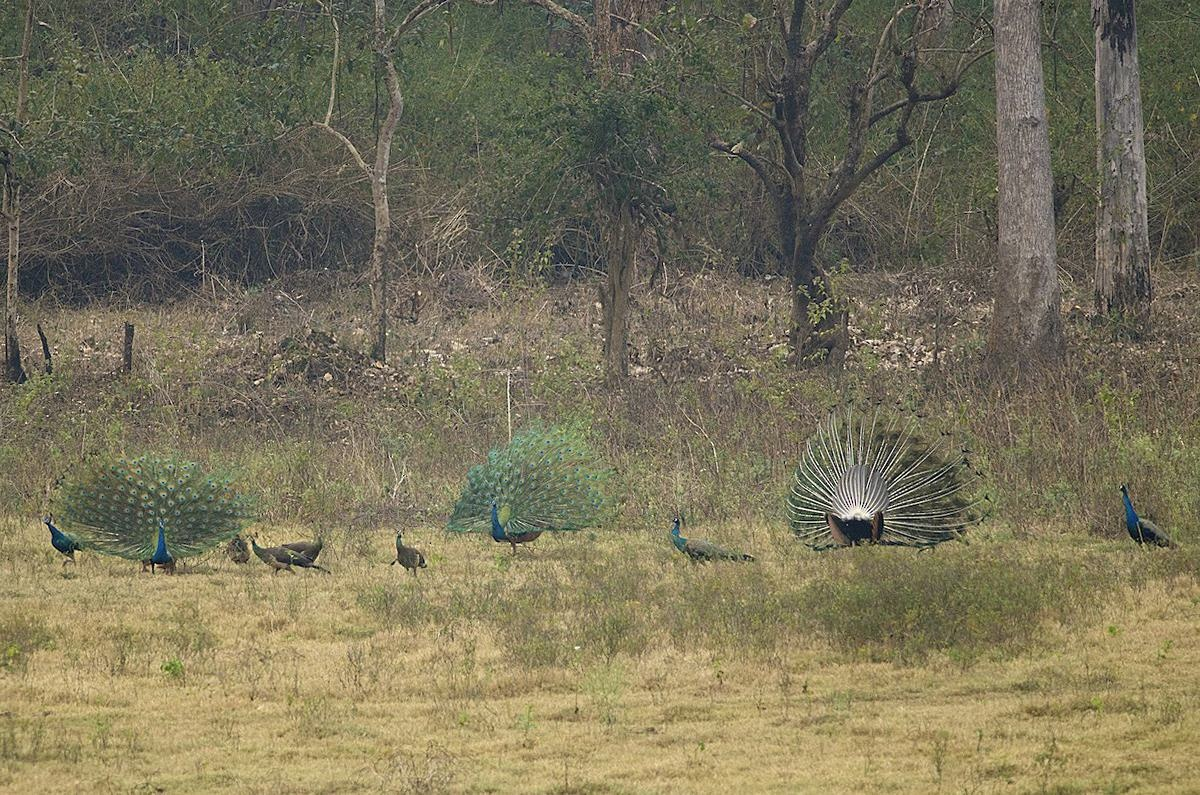peacock: (61, 433, 265, 573), (798, 418, 986, 561), (463, 450, 593, 569), (1096, 463, 1186, 561), (663, 500, 753, 592)
